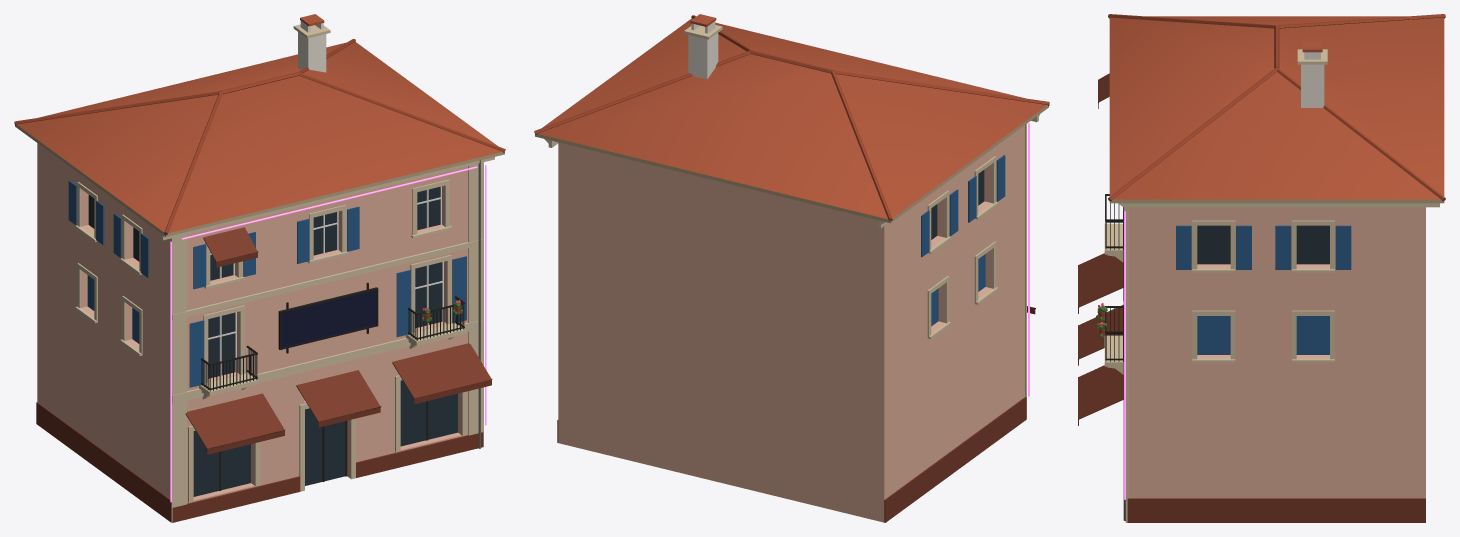
3 views of the same model, side by side, from view 1: azimuth 30°, elevation 25°; view 2: azimuth 150°, elevation 25°; view 3: azimuth 270°, elevation 25° (orthographic). The views are drawn at different scales.
Visible parts, largest first — view 1: social.lod0; view 2: social.lod0; view 3: social.lod0.
Boxes of the visible parts, x1,y1,x2,y2 form: social.lod0: (14, 14, 505, 522); social.lod0: (534, 14, 1049, 522); social.lod0: (1078, 14, 1445, 522).
Size of the model in its own units: 13.2 by 14.31 by 11.1.
